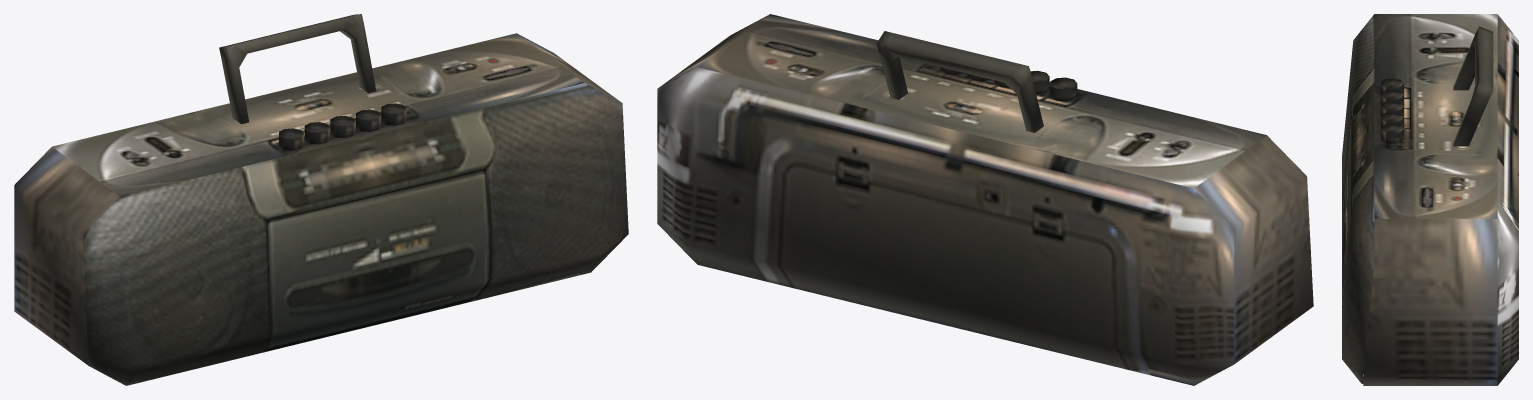
Rendered from SM_Radio_03.fbx.
The picture shows the model from 3 angles, left to right: view 1: azimuth 30°, elevation 25°; view 2: azimuth 150°, elevation 25°; view 3: azimuth 270°, elevation 25°; orthographic projection. The views are drawn at different scales.
Visible parts, largest first — view 1: SM_Radio_03; view 2: SM_Radio_03; view 3: SM_Radio_03.
Boxes of the visible parts, x1,y1,x2,y2 form: SM_Radio_03: [14, 14, 628, 385]; SM_Radio_03: [657, 14, 1313, 385]; SM_Radio_03: [1342, 14, 1518, 385].
Bounding box in the file's own units: 60.09 × 26.77 × 18.84.
